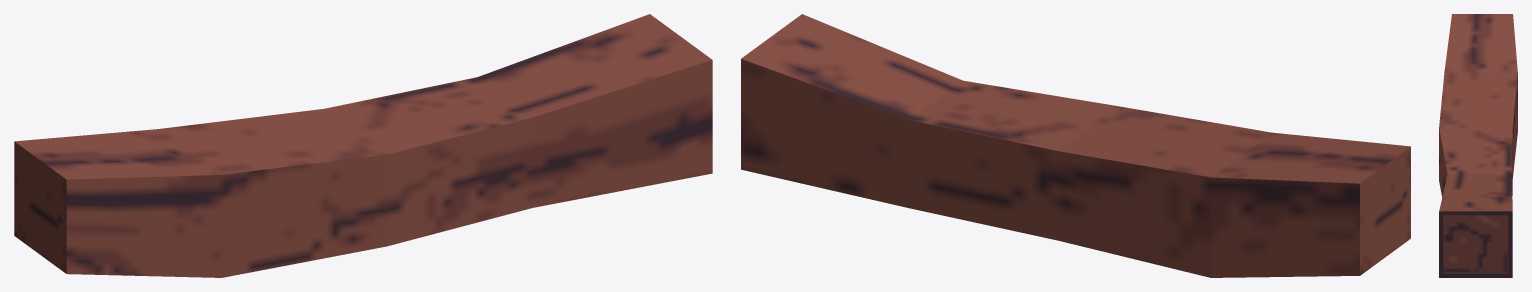
The model's file is Banco.fbx.
3 renders of one model, left to right at view 1: azimuth 30°, elevation 25°; view 2: azimuth 150°, elevation 25°; view 3: azimuth 270°, elevation 25°, orthographic. The views are drawn at different scales.
Visible parts, largest first — view 1: Banco; view 2: Banco; view 3: Banco.
Boxes of the visible parts, x1=… form: Banco: x1=14, y1=14, x2=712, y2=277; Banco: x1=741, y1=14, x2=1410, y2=277; Banco: x1=1439, y1=14, x2=1517, y2=277.
Bounding box in the file's own units: 377 × 69.08 × 79.87.
